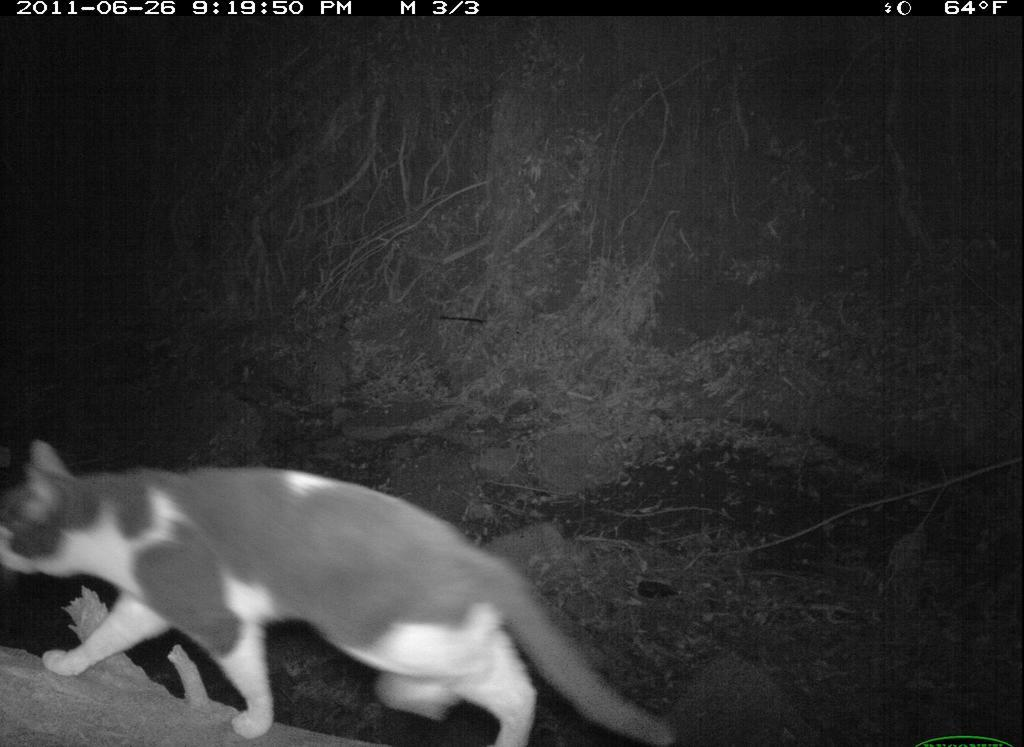cat: (3, 410, 689, 744)
